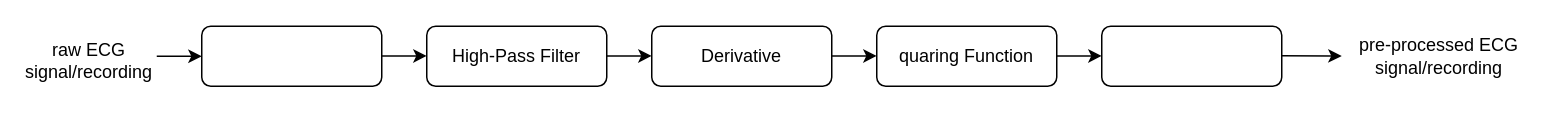
Image size: 1563x113. Some labels were removed from this diagram. Here are the shapes that lost their labels. From the top down, the centre of each, then its label:
the point at 291,55: Low-Pass Filter
the point at 1191,55: Fiducial Mark
